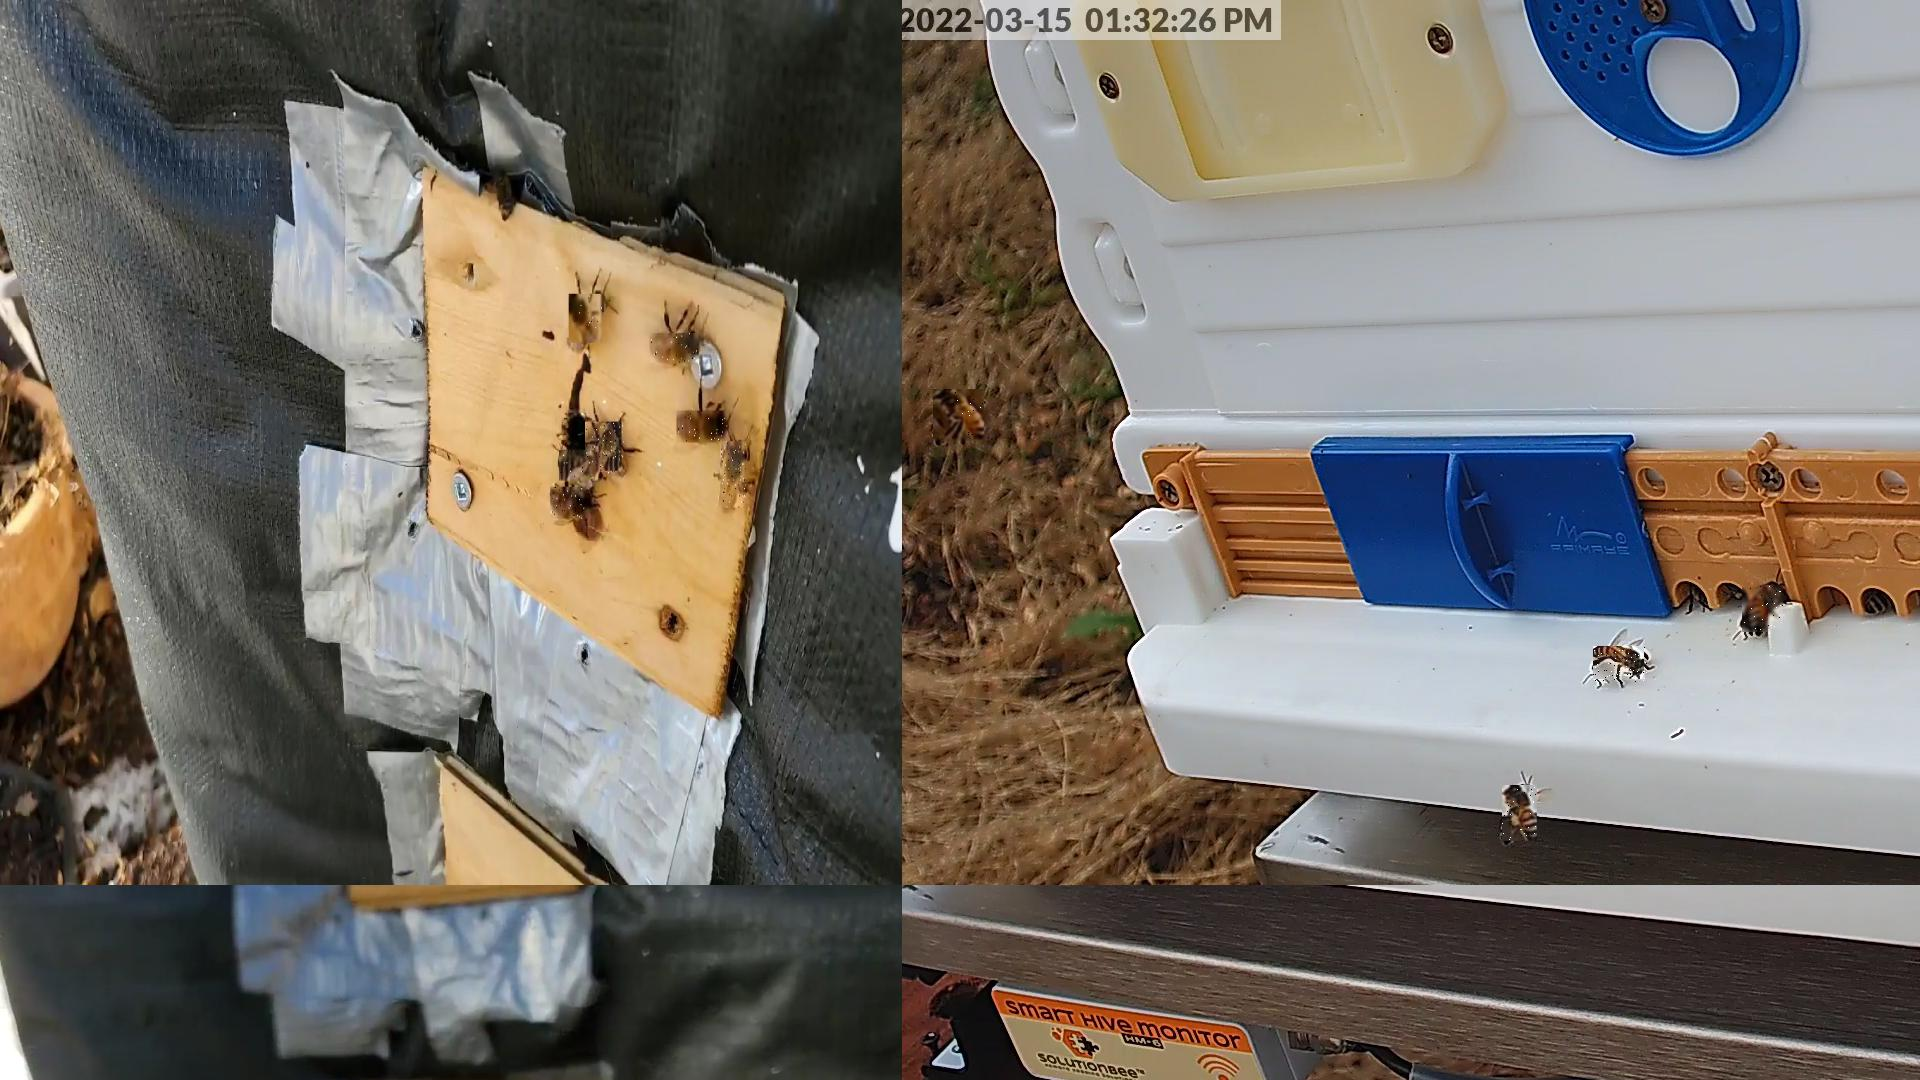bee: (934, 390, 985, 444), (585, 422, 625, 476), (1594, 646, 1648, 683), (568, 294, 604, 344), (678, 411, 729, 444), (721, 442, 746, 509), (1749, 585, 1784, 630), (651, 334, 699, 364), (559, 450, 601, 483), (1742, 588, 1770, 634), (551, 487, 588, 521)
pollenbee: (1502, 785, 1539, 843)
